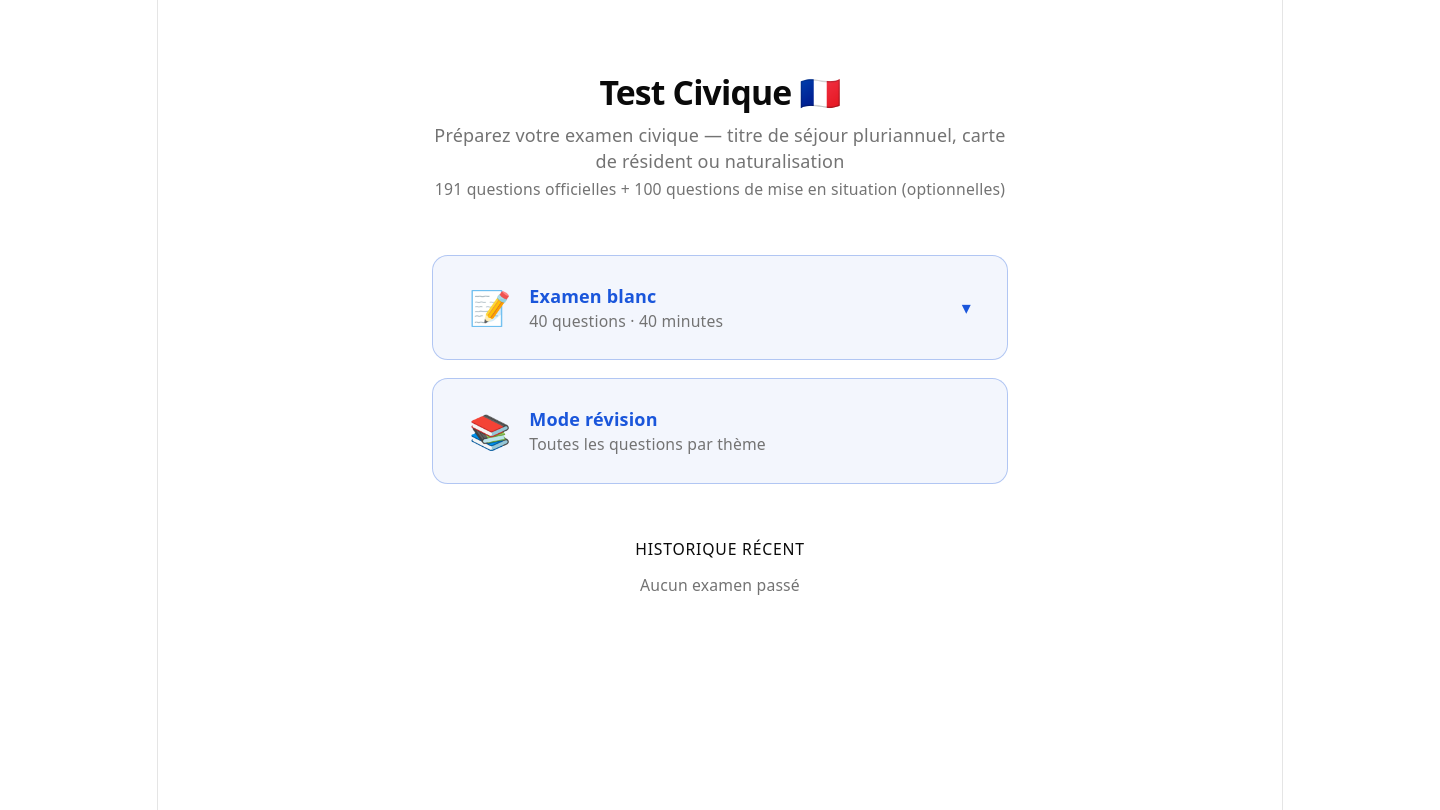
it: Examen blanc — expansion › recliquer sur la card la referme
Click the button with aria-label "Démarrer un examen blanc".
click(720, 307)  # box [432,255,1008,360]
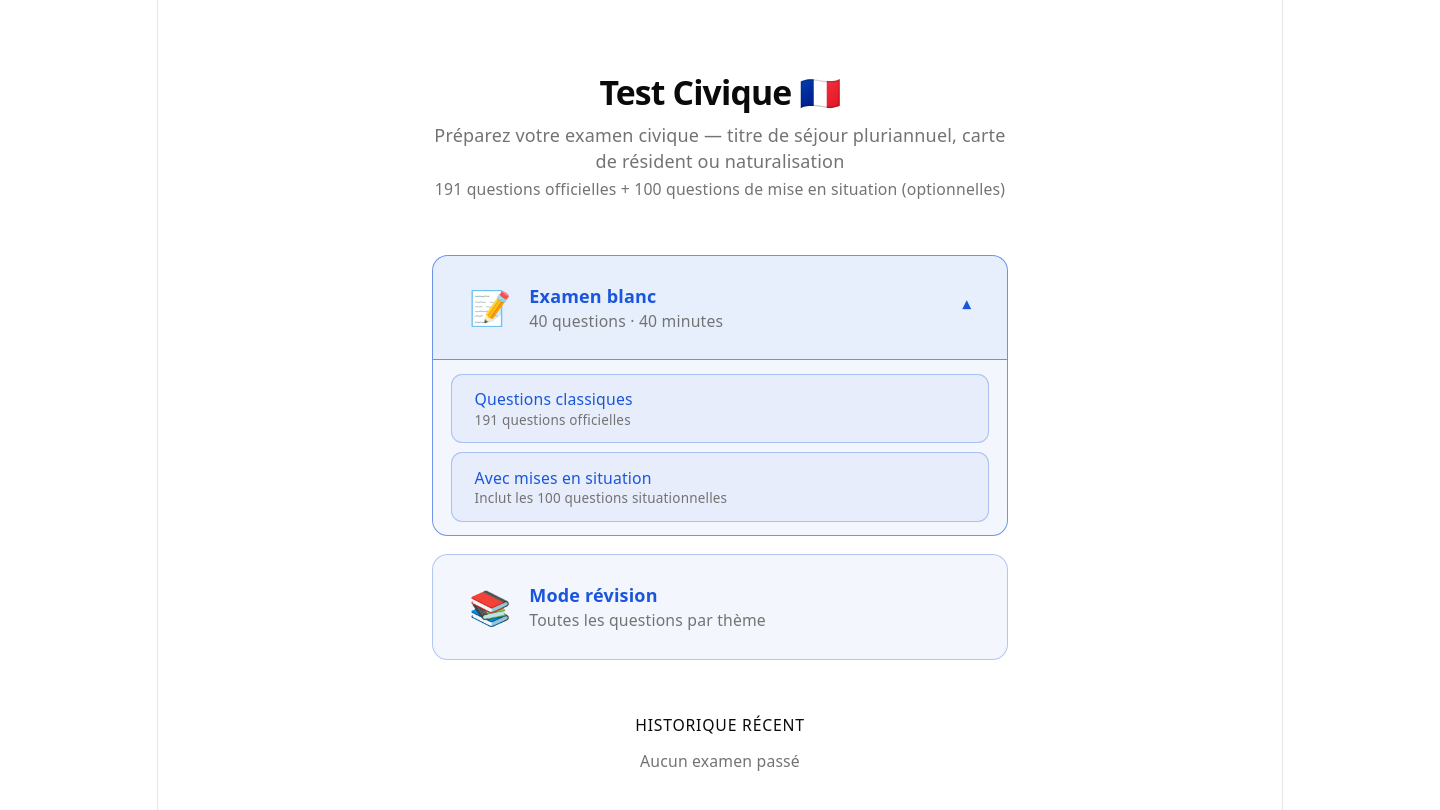
Click the button with aria-label "Démarrer un examen blanc".
click(720, 307)  # box [432,255,1008,360]
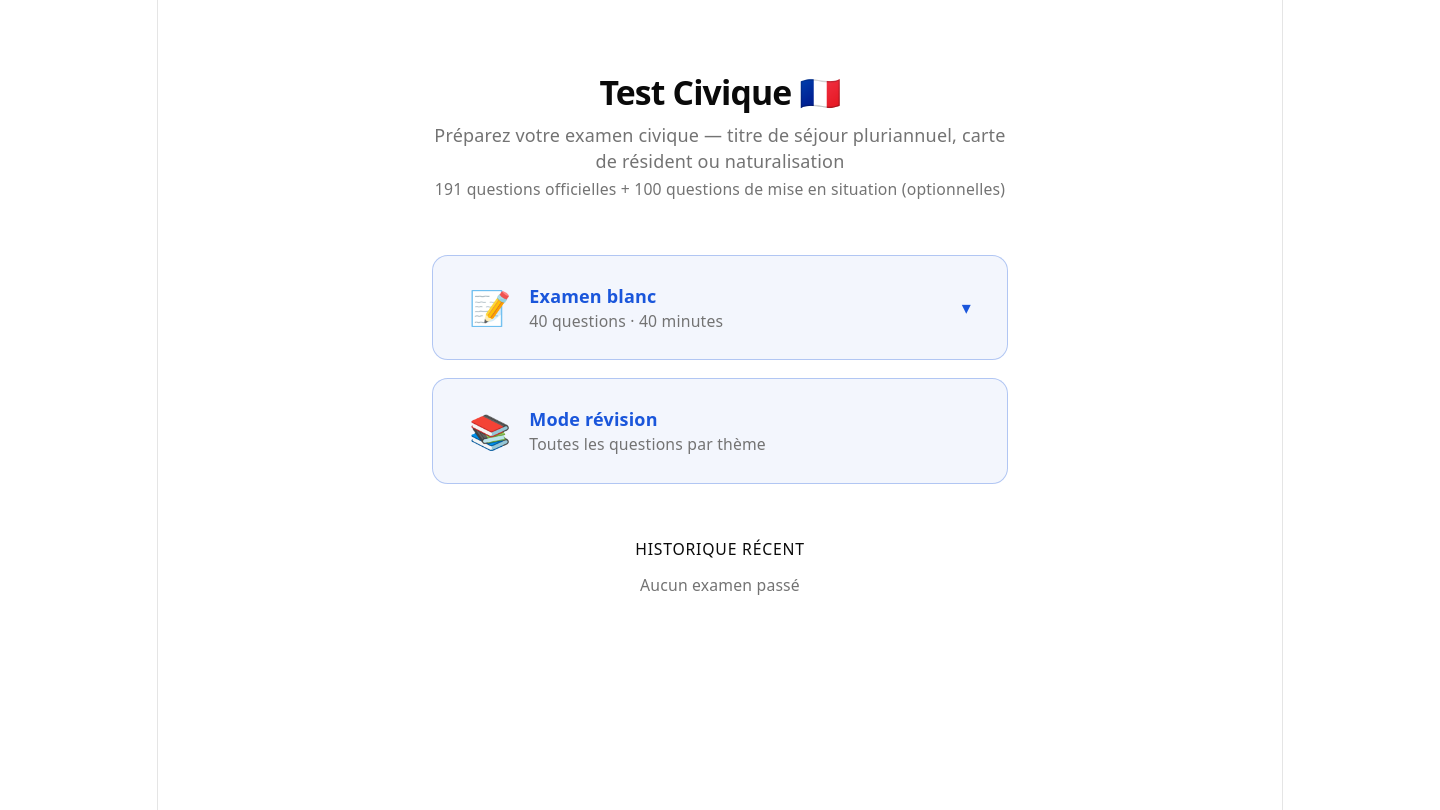
Now the button with aria-label "Démarrer un examen blanc" is collapsed, box [432,255,1008,360]
